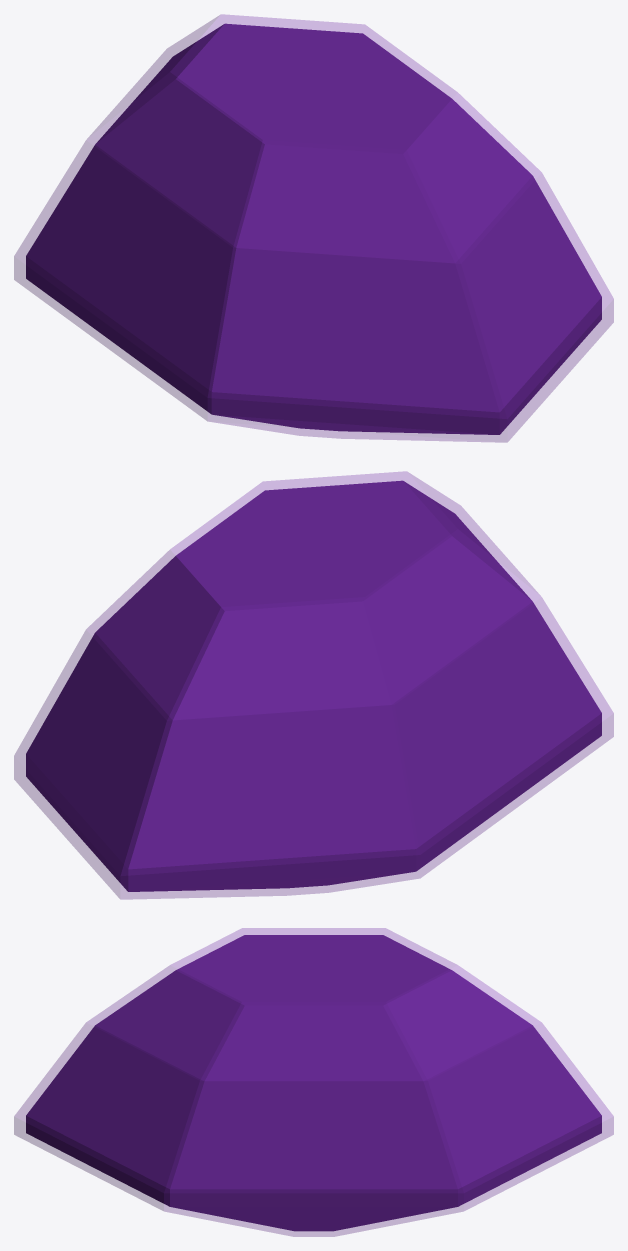
File: item_7item204.glb
3 renders of one model, top to bottom at view 1: azimuth 30°, elevation 25°; view 2: azimuth 150°, elevation 25°; view 3: azimuth 270°, elevation 25°, orthographic. The views are drawn at different scales.
Visible parts, largest first — view 1: jewellery_7item204_glass, jewellery_7item204; view 2: jewellery_7item204_glass, jewellery_7item204; view 3: jewellery_7item204_glass, jewellery_7item204.
Boxes of the visible parts, x1=… form: jewellery_7item204_glass: x1=14, y1=14, x2=613, y2=442; jewellery_7item204: x1=26, y1=23, x2=601, y2=434; jewellery_7item204_glass: x1=14, y1=471, x2=613, y2=899; jewellery_7item204: x1=26, y1=480, x2=601, y2=891; jewellery_7item204_glass: x1=14, y1=928, x2=613, y2=1236; jewellery_7item204: x1=26, y1=935, x2=601, y2=1231.
Bounding box in the file's own units: 0.6062 × 0.48 × 1.
